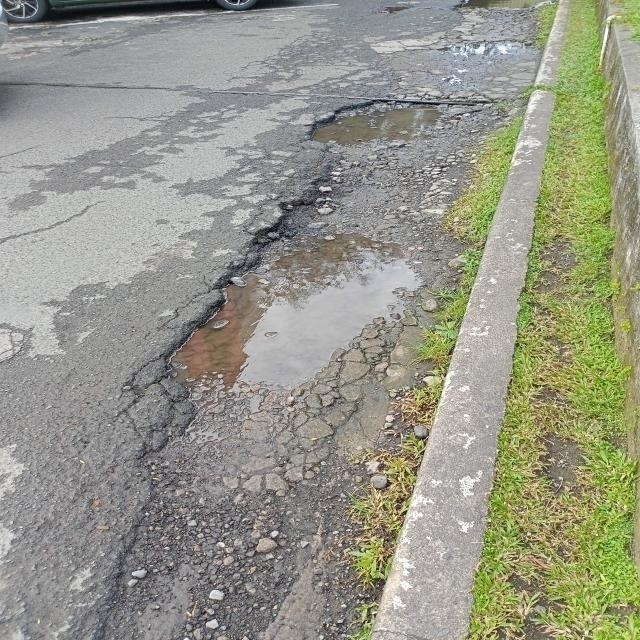pothole: (147, 230, 451, 402), (291, 98, 466, 158)
